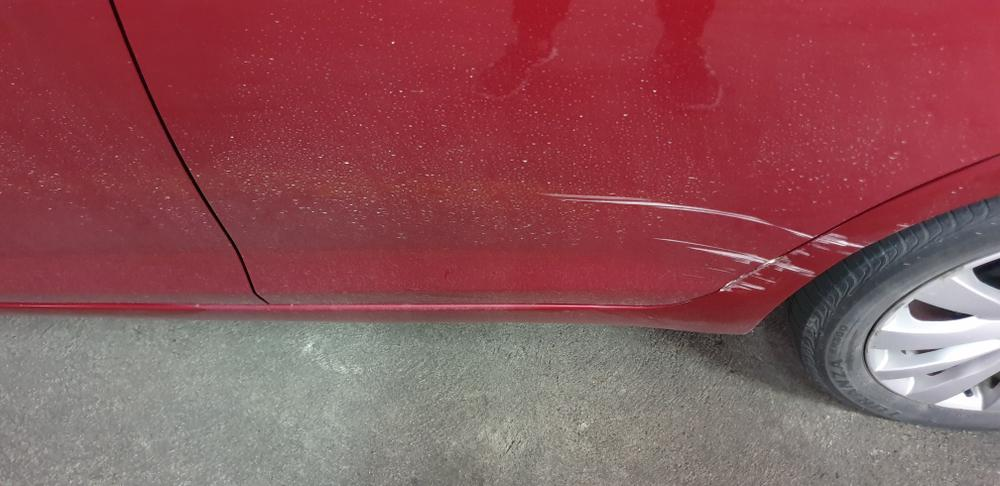scratch: (534, 189, 811, 285), (711, 233, 875, 298)
